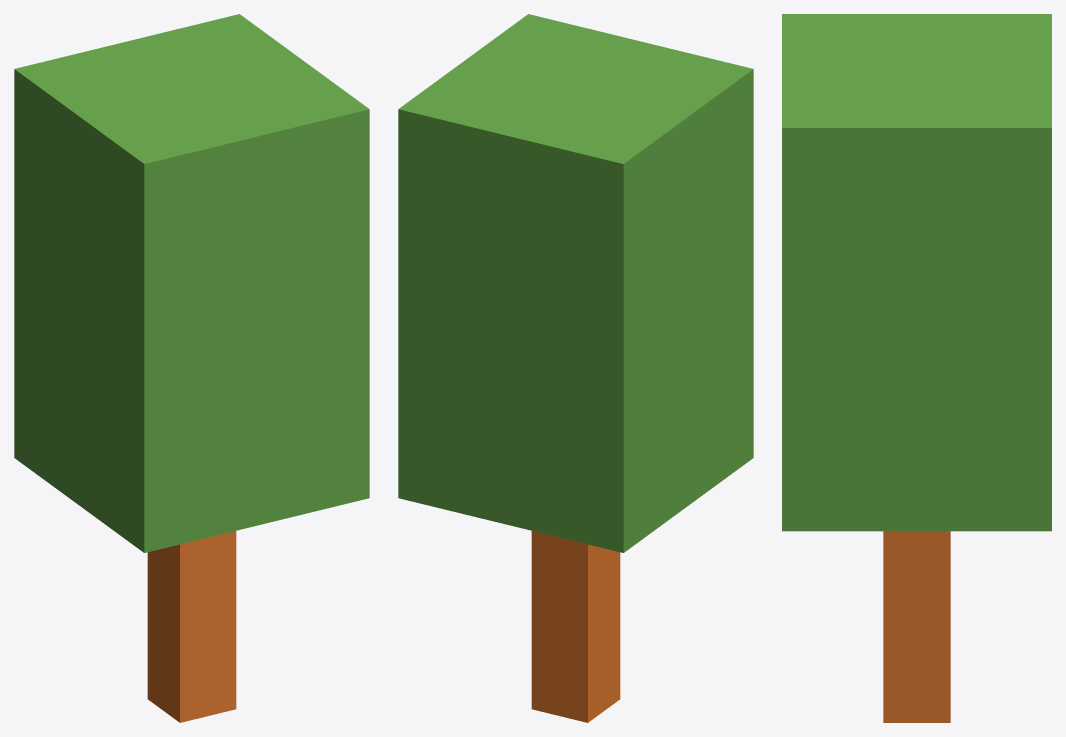
The model's file is STADIUM_Tree_3_Mesh.fbx.
3 renders of one model, left to right at view 1: azimuth 30°, elevation 25°; view 2: azimuth 150°, elevation 25°; view 3: azimuth 270°, elevation 25°, orthographic. The views are drawn at different scales.
Parts seen in each view (by area): view 1: STADIUM_Tree_3_Mesh; view 2: STADIUM_Tree_3_Mesh; view 3: STADIUM_Tree_3_Mesh.
Boxes of the visible parts, left/top/right/bottom form: STADIUM_Tree_3_Mesh: left=14, top=14, right=369, bottom=722; STADIUM_Tree_3_Mesh: left=398, top=14, right=753, bottom=722; STADIUM_Tree_3_Mesh: left=782, top=14, right=1051, bottom=722.
Bounding box in the file's own units: 16 × 41.75 × 16.
